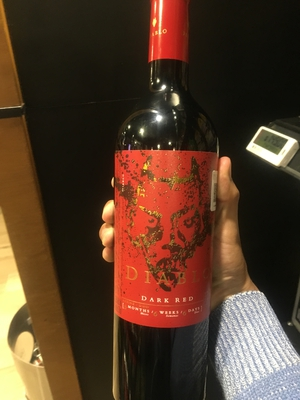diablo dark red: (97, 6, 234, 397)
